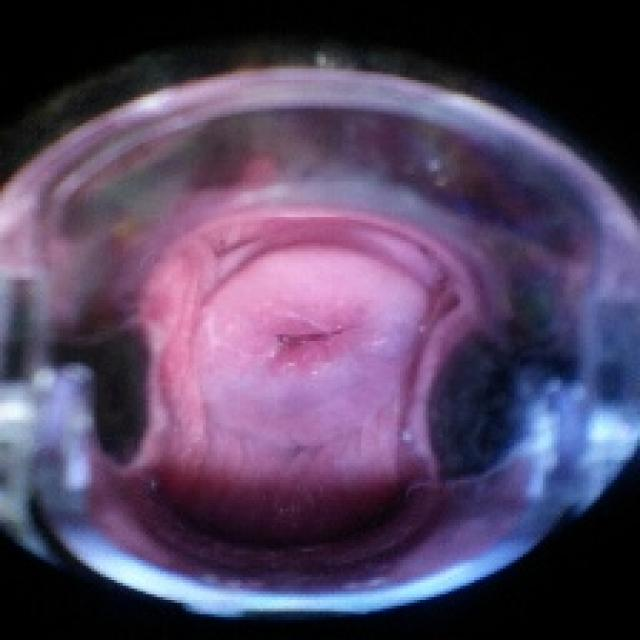type-2: (93, 146, 437, 538)
